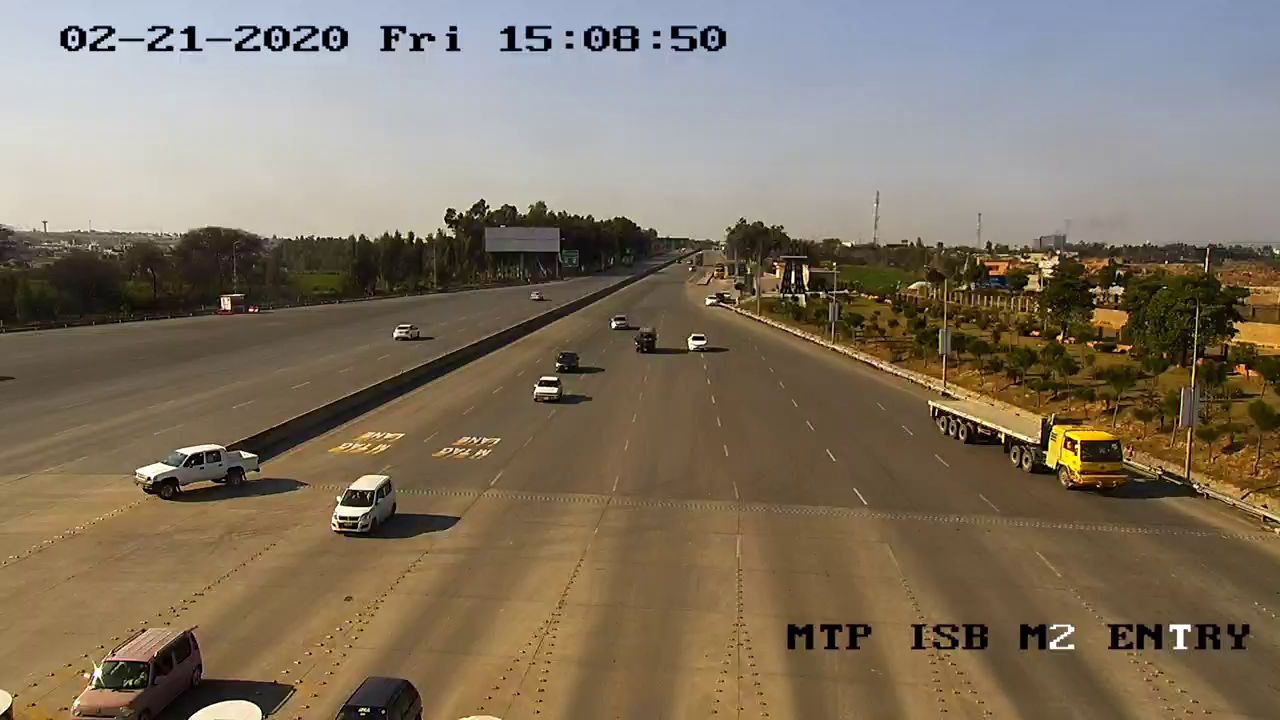f1: (57, 622, 209, 720), (125, 423, 269, 504), (317, 469, 408, 543), (525, 372, 568, 408)
f6: (922, 382, 1137, 506)
